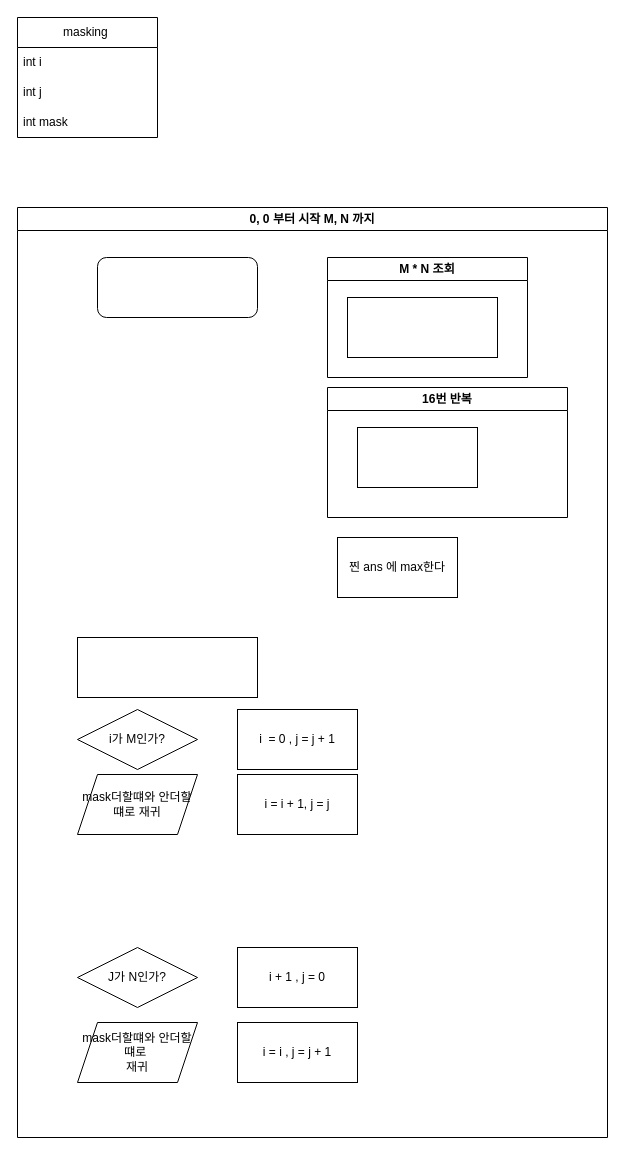
The diagram is 625 pixels wide and 1155 high, and some of its shapes have lost their labels. The shapes that lost their labels are listed below. From the top down, each one's centre as x and y in pixels, then its label:
At (177,287): "I 가 M이거나 J가 N인가?".
At (422,327): "ans[ template[i][j] ] 본인에 10 곱하고 pan[i][j] 더함".
At (417,457): "tmpAns 에 ans[i] 더함".
At (167,667): "template[i][j] 에 mask입력".
